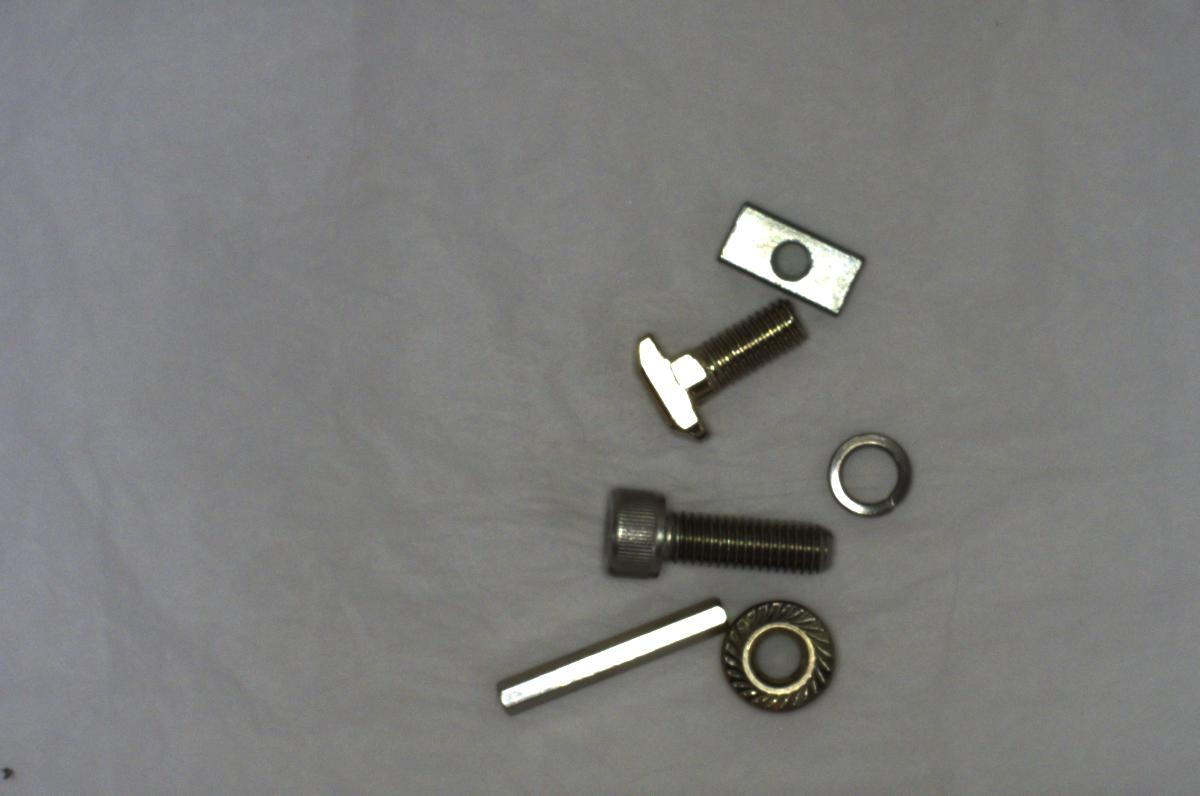Double hexagonal column: (475, 599, 734, 715)
Flange nut: (716, 581, 846, 718)
Hexagon screw: (597, 480, 841, 586)
Rectangular nut: (710, 201, 871, 319)
Spring washer: (829, 426, 924, 524)
T-shaped screw: (624, 292, 808, 444)
